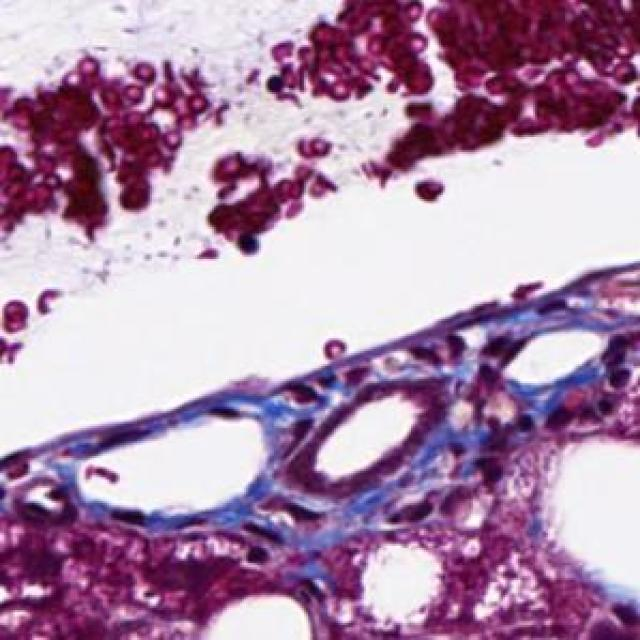inflammation: (460, 390, 546, 494)
